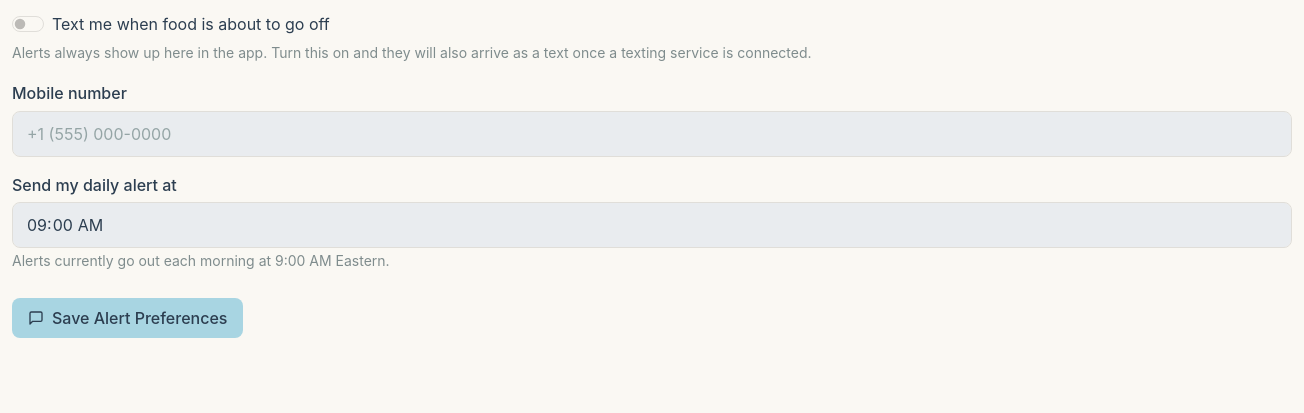
Test case: SmsAlertSettings › confirms a successful save
Click the button "Save Alert Preferences".
click(128, 318)  # box [12,298,243,338]
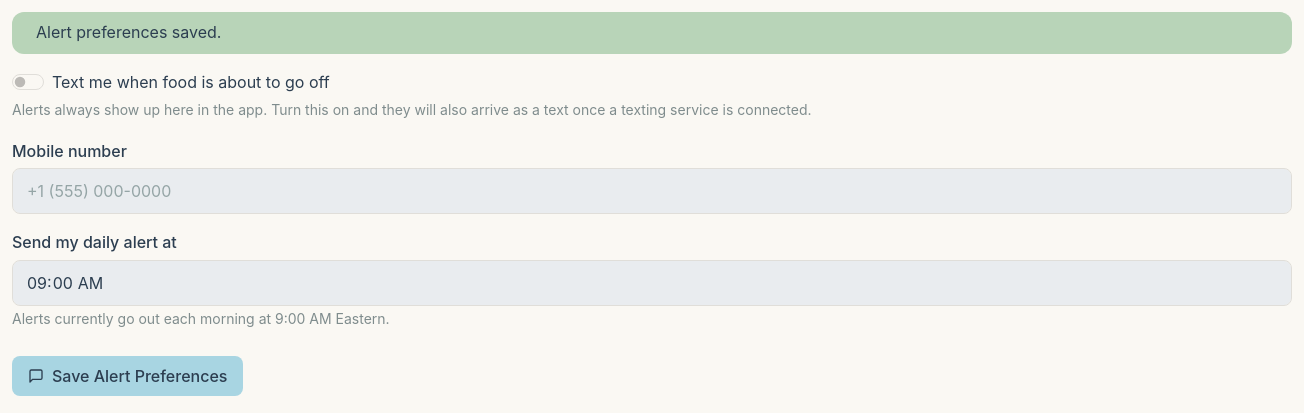
Expected: the text "Alert preferences saved." is shown, [12,12,1292,54]
